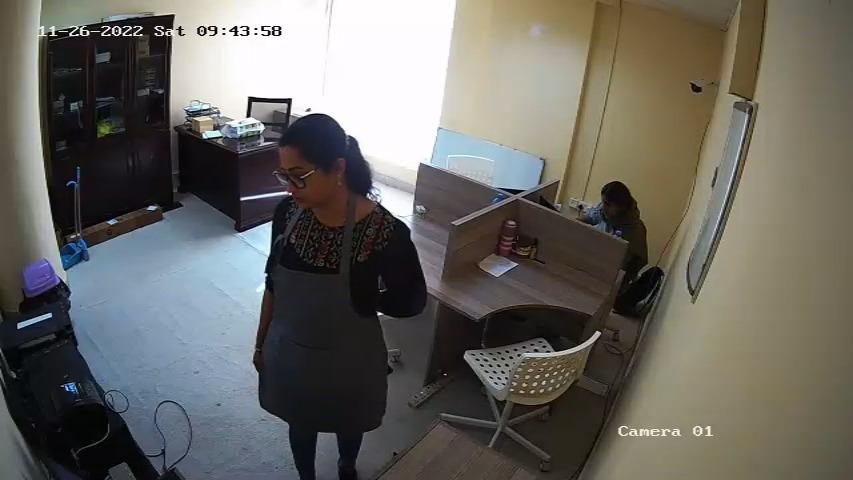apron: (266, 211, 377, 418)
